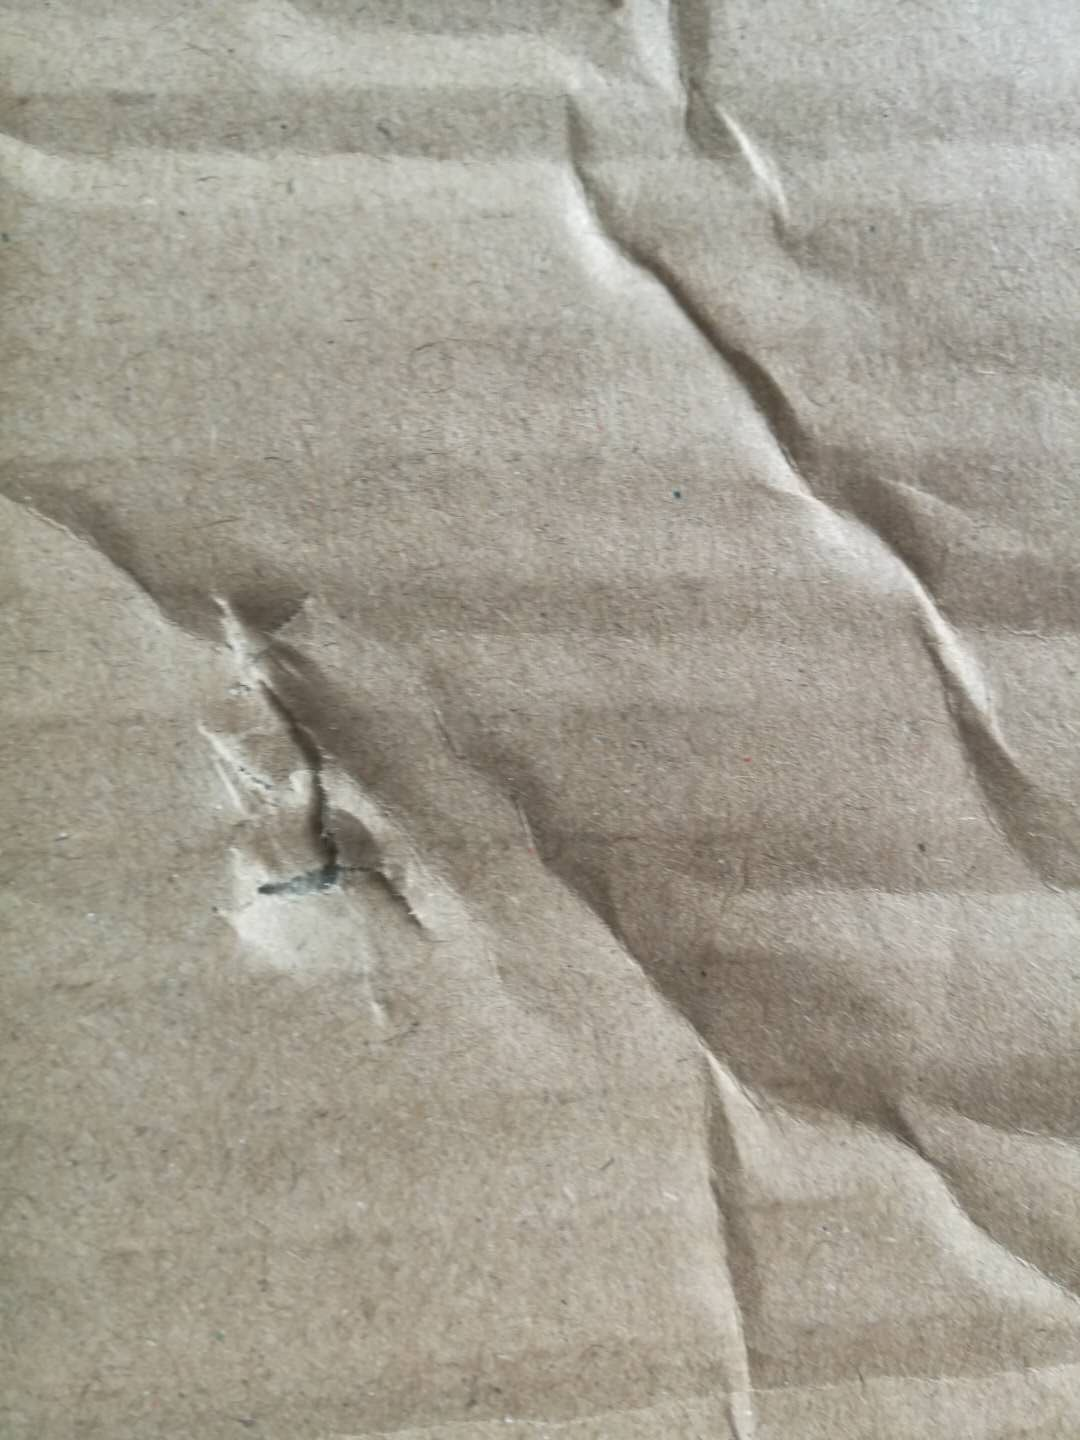defect: (3, 430, 1080, 1435), (557, 1, 1080, 903), (3, 56, 1080, 229)
